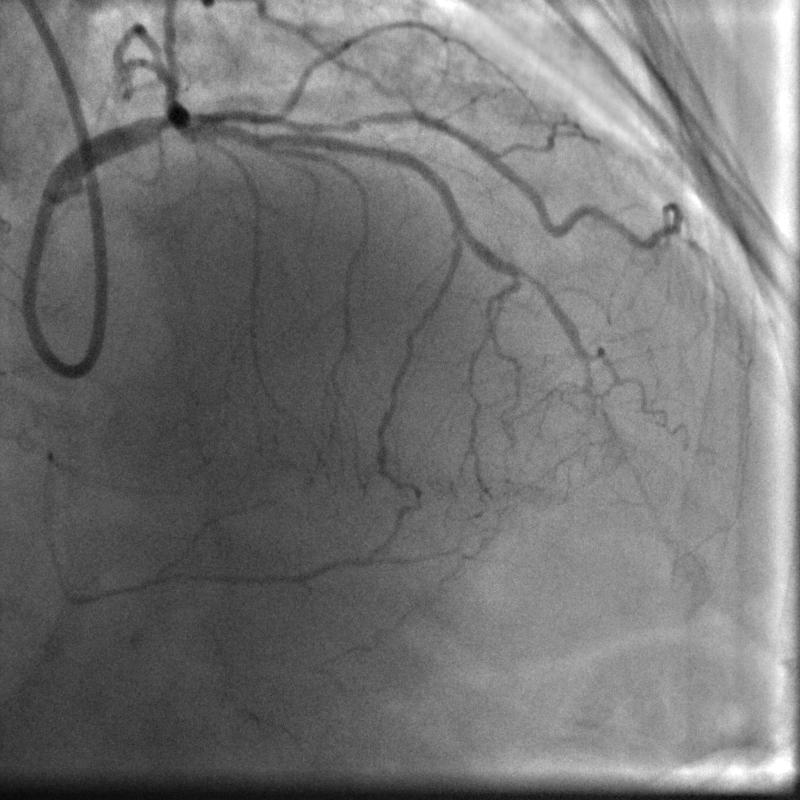Stenosis: (144, 102, 177, 146)
